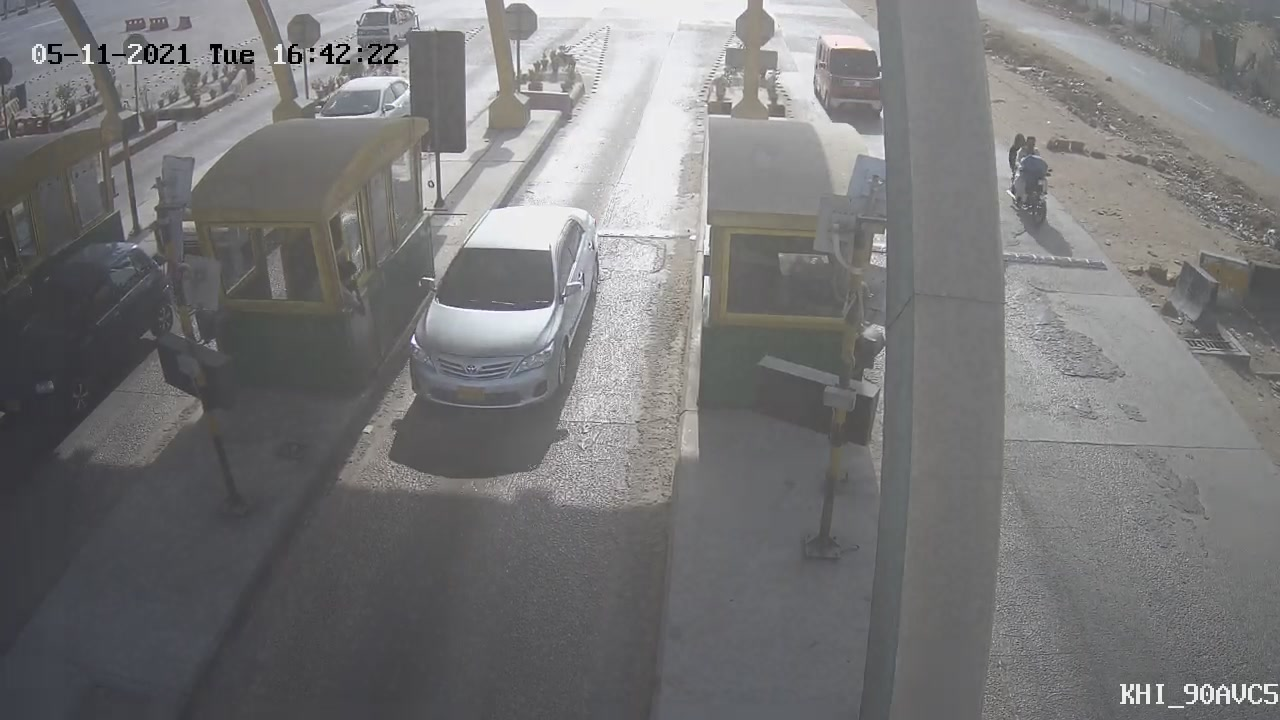F1: (392, 192, 618, 430)
